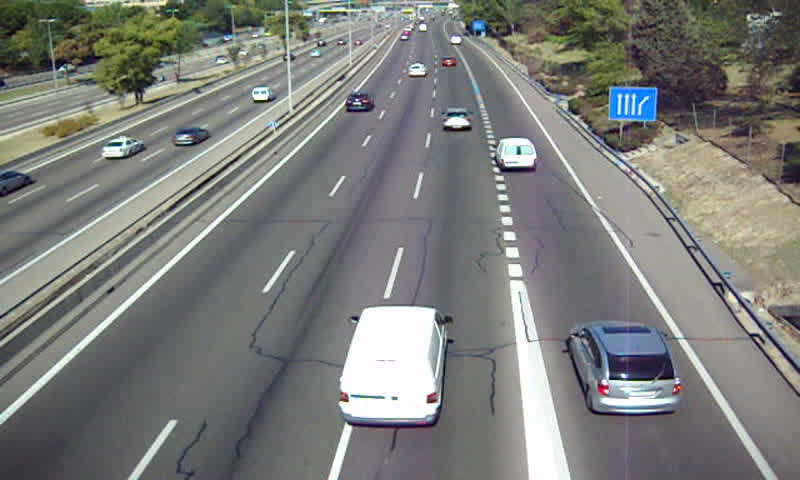car: (571, 323, 682, 414), (442, 107, 474, 132), (344, 91, 373, 112), (407, 61, 427, 78), (442, 56, 458, 68)
van: (342, 306, 447, 426), (496, 138, 538, 170)
